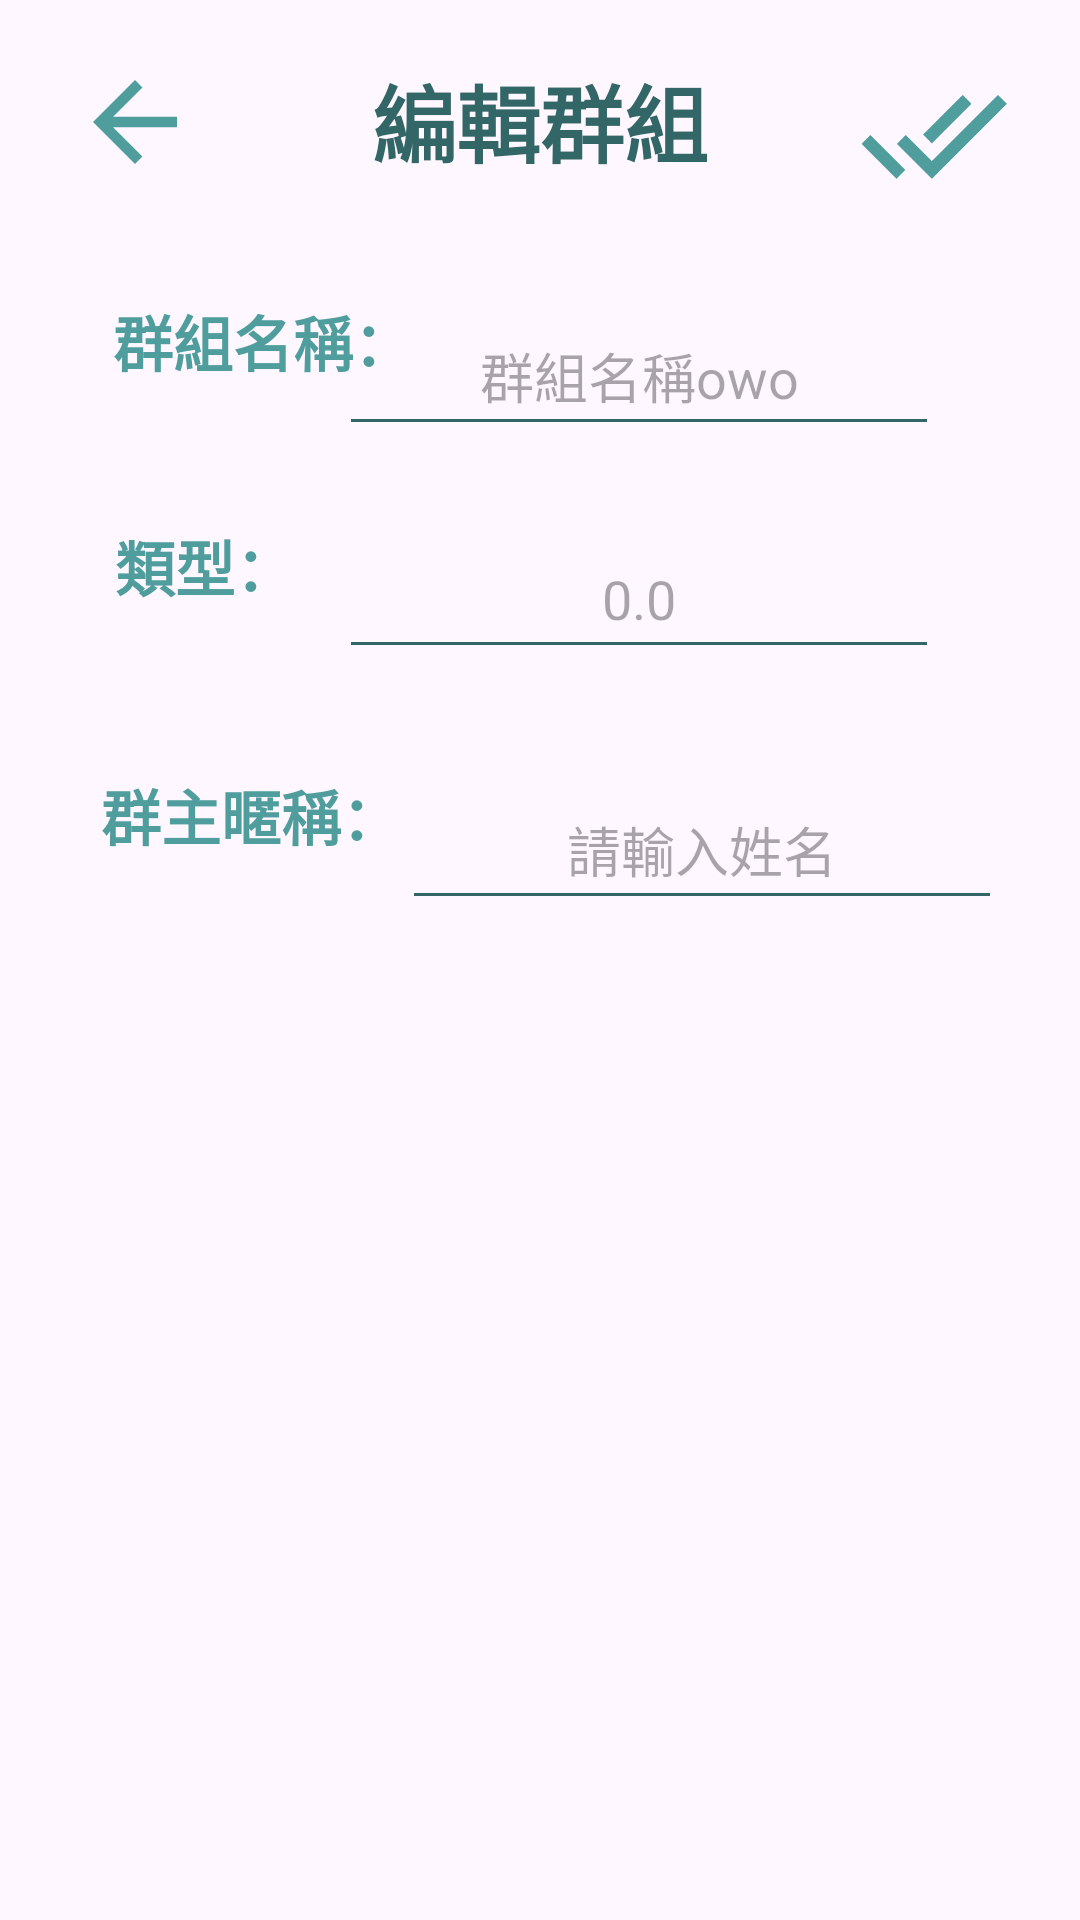

Point at icon controls on the screen. Image size 1080w x 1920h, points as point (x, y).
arrow back: point (135, 122)
done all: point (934, 137)
